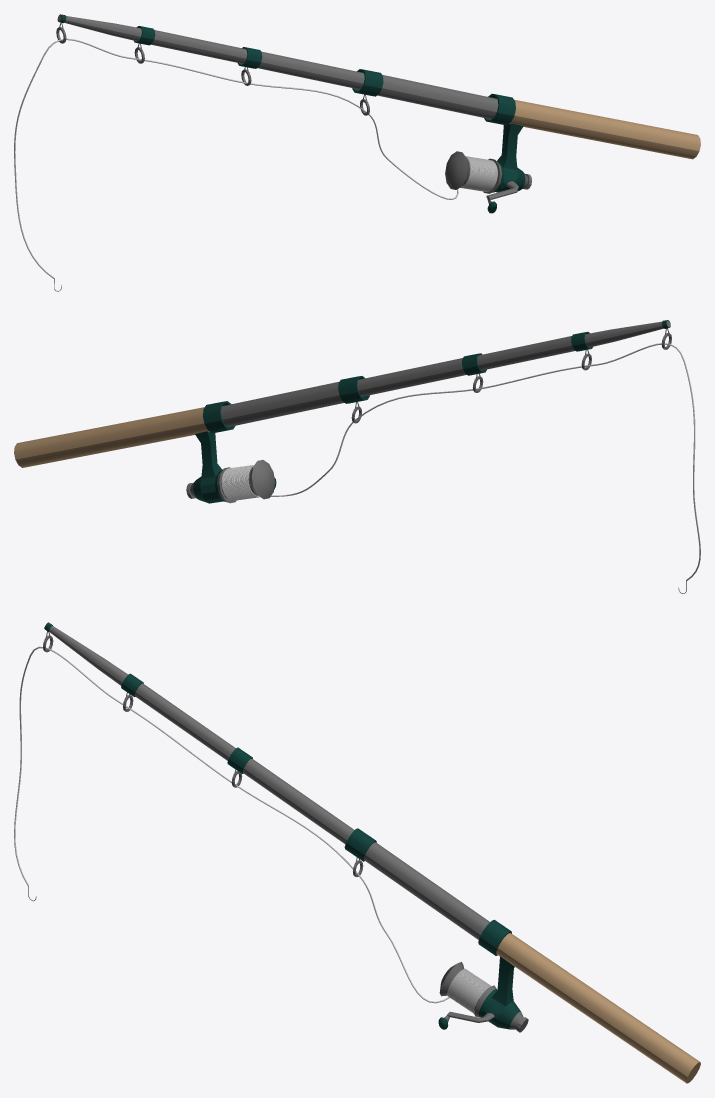
Rendered from olta.fbx.
3 views of the same model, one above another, from view 1: azimuth 30°, elevation 25°; view 2: azimuth 150°, elevation 25°; view 3: azimuth 330°, elevation 25° (orthographic). The views are drawn at different scales.
Parts seen in each view (by area): view 1: olta; view 2: olta; view 3: olta.
Part boxes in pixels (x1,y1,x2,y2): olta: (14,14,700,291); olta: (14,320,700,593); olta: (14,622,700,1083).
Bounding box in the file's own units: 1057 × 446 × 95.38.
